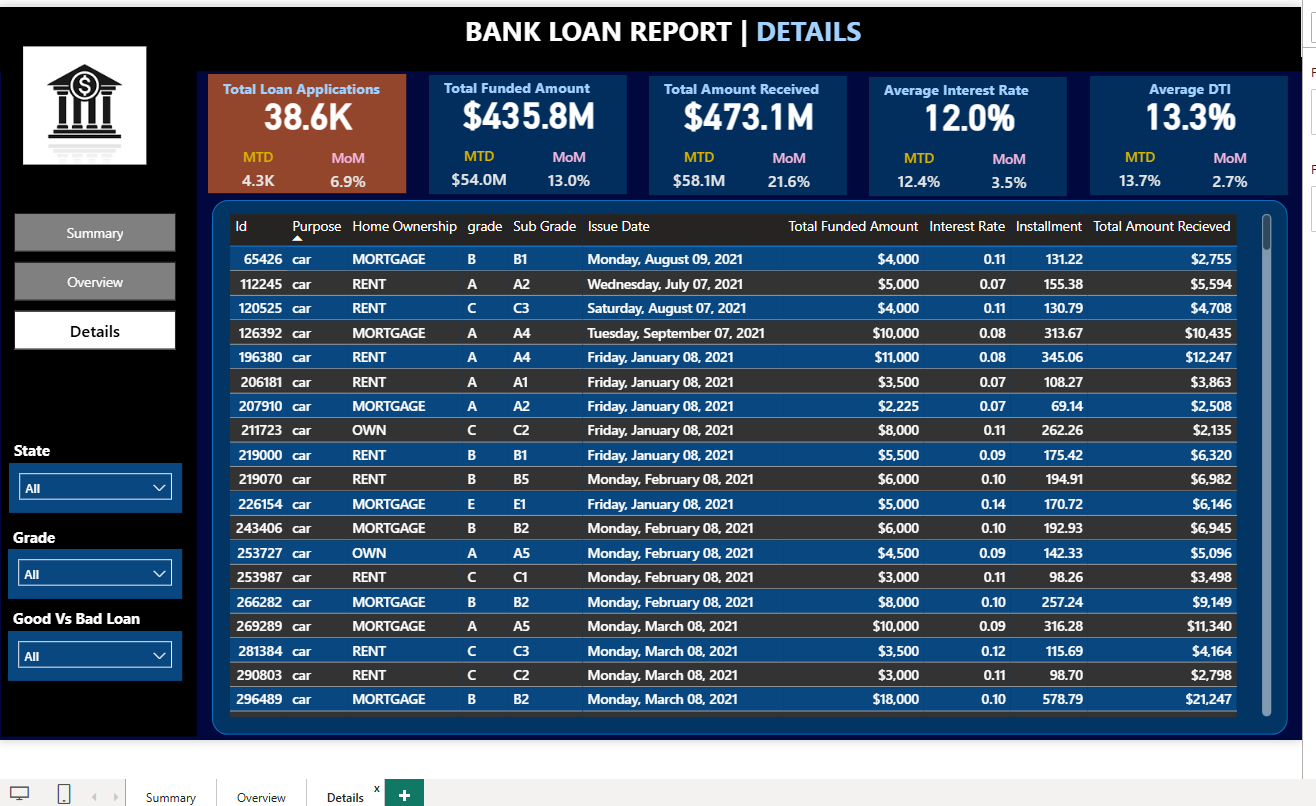

The page's visual inventory and layout, read from the dashboard file:
{"tool":"powerbi","page":{"name":"Details","canvas":[1280,720],"ordinal":2},"visuals":[{"type":"shape","box":[2.9,50.1,192.4,666.5],"z":0},{"type":"shape","box":[206.4,67.1,194.9,117.1],"z":0,"group":"g2"},{"type":"shape","box":[422.7,67.8,194.7,117.3],"z":0,"group":"g3"},{"type":"shape","box":[638.9,69.2,194.7,117.3],"z":0,"group":"g4"},{"type":"shape","box":[1071.8,69.5,194.7,117.3],"z":0,"group":"g6"},{"type":"shape","box":[855.1,69.7,194.7,117.3],"z":0,"group":"g5"},{"type":"group","id":"g1","title":"Group 2","box":[210.1,190.4,1056.2,525.2],"z":0,"group":"g7"},{"type":"shape","box":[0,0,1280,54.1],"z":1000},{"type":"card","fields":{"Values":["bank_loan_data.Total Funded Amount"]},"box":[416.8,76.1,207.6,56.3],"z":1000,"group":"g3"},{"type":"card","fields":{"Values":["bank_loan_data.Total Loan Applications"]},"box":[200.5,77.3,207.6,56.3],"z":1000,"group":"g2"},{"type":"card","fields":{"Values":["bank_loan_data.Total Amount Recieved"]},"box":[633,77.5,207.6,56.3],"z":1000,"group":"g4"},{"type":"card","fields":{"Values":["bank_loan_data.Average DTI"]},"box":[1065.9,77.8,207.6,56.3],"z":1000,"group":"g6"},{"type":"card","fields":{"Values":["bank_loan_data.Average Interest Rate"]},"box":[849.2,78,207.6,56.3],"z":1000,"group":"g5"},{"type":"shape","box":[210.1,190.4,1056.2,525.2],"z":1000,"group":"g1"},{"type":"textbox","box":[432,65.5,177.1,38.7],"z":2000,"group":"g3"},{"type":"textbox","box":[215.7,66.7,177.1,38.7],"z":2000,"group":"g2"},{"type":"textbox","box":[648.2,66.9,177.1,38.7],"z":2000,"group":"g4"},{"type":"textbox","box":[1081.1,67.2,177.1,38.7],"z":2000,"group":"g6"},{"type":"textbox","box":[864.4,67.4,177.1,38.7],"z":2000,"group":"g5"},{"type":"textbox","box":[10.8,421.1,65,38.5],"z":2000},{"type":"textbox","box":[453.5,0,447.7,51],"z":3000},{"type":"card","title":"MTD","fields":{"Values":["bank_loan_data.MTD Funded Amount"]},"box":[432,138.4,78.6,49.3],"z":3000,"group":"g3"},{"type":"card","title":"MTD","fields":{"Values":["bank_loan_data.MTD Loan Applications"]},"box":[215.7,139.6,78.6,49.3],"z":3000,"group":"g2"},{"type":"card","title":"MTD","fields":{"Values":["bank_loan_data.MTD Total Amount Recieved"]},"box":[648.2,139.8,78.6,49.3],"z":3000,"group":"g4"},{"type":"card","title":"MTD","fields":{"Values":["bank_loan_data.MTD Average DTI"]},"box":[1081.1,140.1,78.6,49.3],"z":3000,"group":"g6"},{"type":"card","title":"MTD","fields":{"Values":["bank_loan_data.MTD Average Interest Rate"]},"box":[864.4,140.3,78.6,49.3],"z":3000,"group":"g5"},{"type":"group","id":"g2","title":"Group 1","box":[200.5,66.7,207.6,123.3],"z":4000},{"type":"card","title":"MoM","fields":{"Values":["bank_loan_data.MOM Total Funded Amount"]},"box":[521.2,139.5,78.6,49.3],"z":4000,"group":"g3"},{"type":"card","title":"MoM","fields":{"Values":["bank_loan_data.MoM Loan Application"]},"box":[304.9,140.7,78.6,49.3],"z":4000,"group":"g2"},{"type":"card","title":"MoM","fields":{"Values":["bank_loan_data.MOM Total Amount Recieved"]},"box":[737.4,140.9,78.6,49.3],"z":4000,"group":"g4"},{"type":"card","title":"MoM","fields":{"Values":["bank_loan_data.MOM Average DTI"]},"box":[1170.3,141.2,78.6,49.3],"z":4000,"group":"g6"},{"type":"card","title":"MoM","fields":{"Values":["bank_loan_data.MOM Average Interest Rate"]},"box":[953.6,141.4,78.6,49.3],"z":4000,"group":"g5"},{"type":"group","id":"g3","title":"Group 1","box":[416.8,65.5,207.6,123.3],"z":5000},{"type":"group","id":"g4","title":"Group 1","box":[633,66.9,207.6,123.3],"z":6000},{"type":"group","id":"g5","title":"Group 1","box":[849.2,67.4,208,124],"z":7000},{"type":"group","id":"g6","title":"Group 1","box":[1065.9,67.2,208.1,123.9],"z":8000},{"type":"group","id":"g7","title":"Group 3","box":[210.1,190.4,1056.2,525.2],"z":9000},{"type":"shape","box":[0,50.5,1280,14.4],"z":10000},{"type":"slicer","fields":{"Values":["bank_loan_data.address_state"]},"box":[10.8,448.7,169.6,49.3],"z":11000},{"type":"slicer","fields":{"Values":["bank_loan_data.grade"]},"box":[9.6,532.9,170.8,49.3],"z":12000},{"type":"textbox","box":[9.6,506.5,65,38.5],"z":13000},{"type":"slicer","fields":{"Values":["bank_loan_data.Good vs Bad Loan"]},"box":[9.6,613.5,170.8,49.3],"z":14000},{"type":"textbox","box":[9.8,586,170.8,38.3],"z":15000},{"type":"tableEx","fields":{"Values":["bank_loan_data.id","bank_loan_data.purpose","bank_loan_data.home_ownership","bank_loan_data.grade","bank_loan_data.sub_grade","bank_loan_data.issue_date","bank_loan_data.Total Funded Amount","bank_loan_data.int_rate","bank_loan_data.installment","bank_loan_data.Total Amount Recieved"]},"box":[221.8,199.3,1032.6,502.6],"z":18000},{"type":"image","box":[19.6,17.7,130.6,159],"z":19000},{"type":"pageNavigator","box":[15.7,203.2,159,134.5],"z":20000}]}

Visuals, with their boxes on the page's 1280x720 design canvas (x1, y1, x2, y2). These are canvas units, not pixel positions in the 1316x806 screenshot, which may show the page scaled, cropped or inside an application window:
shape: (x1=3, y1=50, x2=195, y2=717)
shape: (x1=206, y1=67, x2=401, y2=184)
shape: (x1=423, y1=68, x2=617, y2=185)
shape: (x1=639, y1=69, x2=834, y2=186)
shape: (x1=1072, y1=70, x2=1266, y2=187)
shape: (x1=855, y1=70, x2=1050, y2=187)
"Group 2" group: (x1=210, y1=190, x2=1266, y2=716)
shape: (x1=0, y1=0, x2=1280, y2=54)
card - bank_loan_data.Total Funded Amount: (x1=417, y1=76, x2=624, y2=132)
card - bank_loan_data.Total Loan Applications: (x1=200, y1=77, x2=408, y2=134)
card - bank_loan_data.Total Amount Recieved: (x1=633, y1=78, x2=841, y2=134)
card - bank_loan_data.Average DTI: (x1=1066, y1=78, x2=1274, y2=134)
card - bank_loan_data.Average Interest Rate: (x1=849, y1=78, x2=1057, y2=134)
shape: (x1=210, y1=190, x2=1266, y2=716)
textbox: (x1=432, y1=66, x2=609, y2=104)
textbox: (x1=216, y1=67, x2=393, y2=105)
textbox: (x1=648, y1=67, x2=825, y2=106)
textbox: (x1=1081, y1=67, x2=1258, y2=106)
textbox: (x1=864, y1=67, x2=1042, y2=106)
textbox: (x1=11, y1=421, x2=76, y2=460)
textbox: (x1=454, y1=0, x2=901, y2=51)
"MTD" card: (x1=432, y1=138, x2=511, y2=188)
"MTD" card: (x1=216, y1=140, x2=294, y2=189)
"MTD" card: (x1=648, y1=140, x2=727, y2=189)
"MTD" card: (x1=1081, y1=140, x2=1160, y2=189)
"MTD" card: (x1=864, y1=140, x2=943, y2=190)
"Group 1" group: (x1=200, y1=67, x2=408, y2=190)
"MoM" card: (x1=521, y1=140, x2=600, y2=189)
"MoM" card: (x1=305, y1=141, x2=384, y2=190)
"MoM" card: (x1=737, y1=141, x2=816, y2=190)
"MoM" card: (x1=1170, y1=141, x2=1249, y2=190)
"MoM" card: (x1=954, y1=141, x2=1032, y2=191)
"Group 1" group: (x1=417, y1=66, x2=624, y2=189)
"Group 1" group: (x1=633, y1=67, x2=841, y2=190)
"Group 1" group: (x1=849, y1=67, x2=1057, y2=191)
"Group 1" group: (x1=1066, y1=67, x2=1274, y2=191)
"Group 3" group: (x1=210, y1=190, x2=1266, y2=716)
shape: (x1=0, y1=50, x2=1280, y2=65)
slicer - bank_loan_data.address_state: (x1=11, y1=449, x2=180, y2=498)
slicer - bank_loan_data.grade: (x1=10, y1=533, x2=180, y2=582)
textbox: (x1=10, y1=506, x2=75, y2=545)
slicer - bank_loan_data.Good vs Bad Loan: (x1=10, y1=614, x2=180, y2=663)
textbox: (x1=10, y1=586, x2=181, y2=624)
tableEx - bank_loan_data.id x bank_loan_data.purpose: (x1=222, y1=199, x2=1254, y2=702)
image: (x1=20, y1=18, x2=150, y2=177)
pageNavigator: (x1=16, y1=203, x2=175, y2=338)
